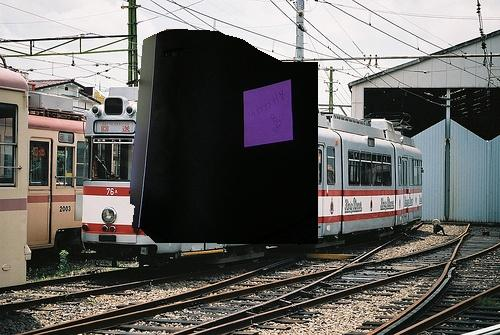tampered: (130, 30, 318, 244)
